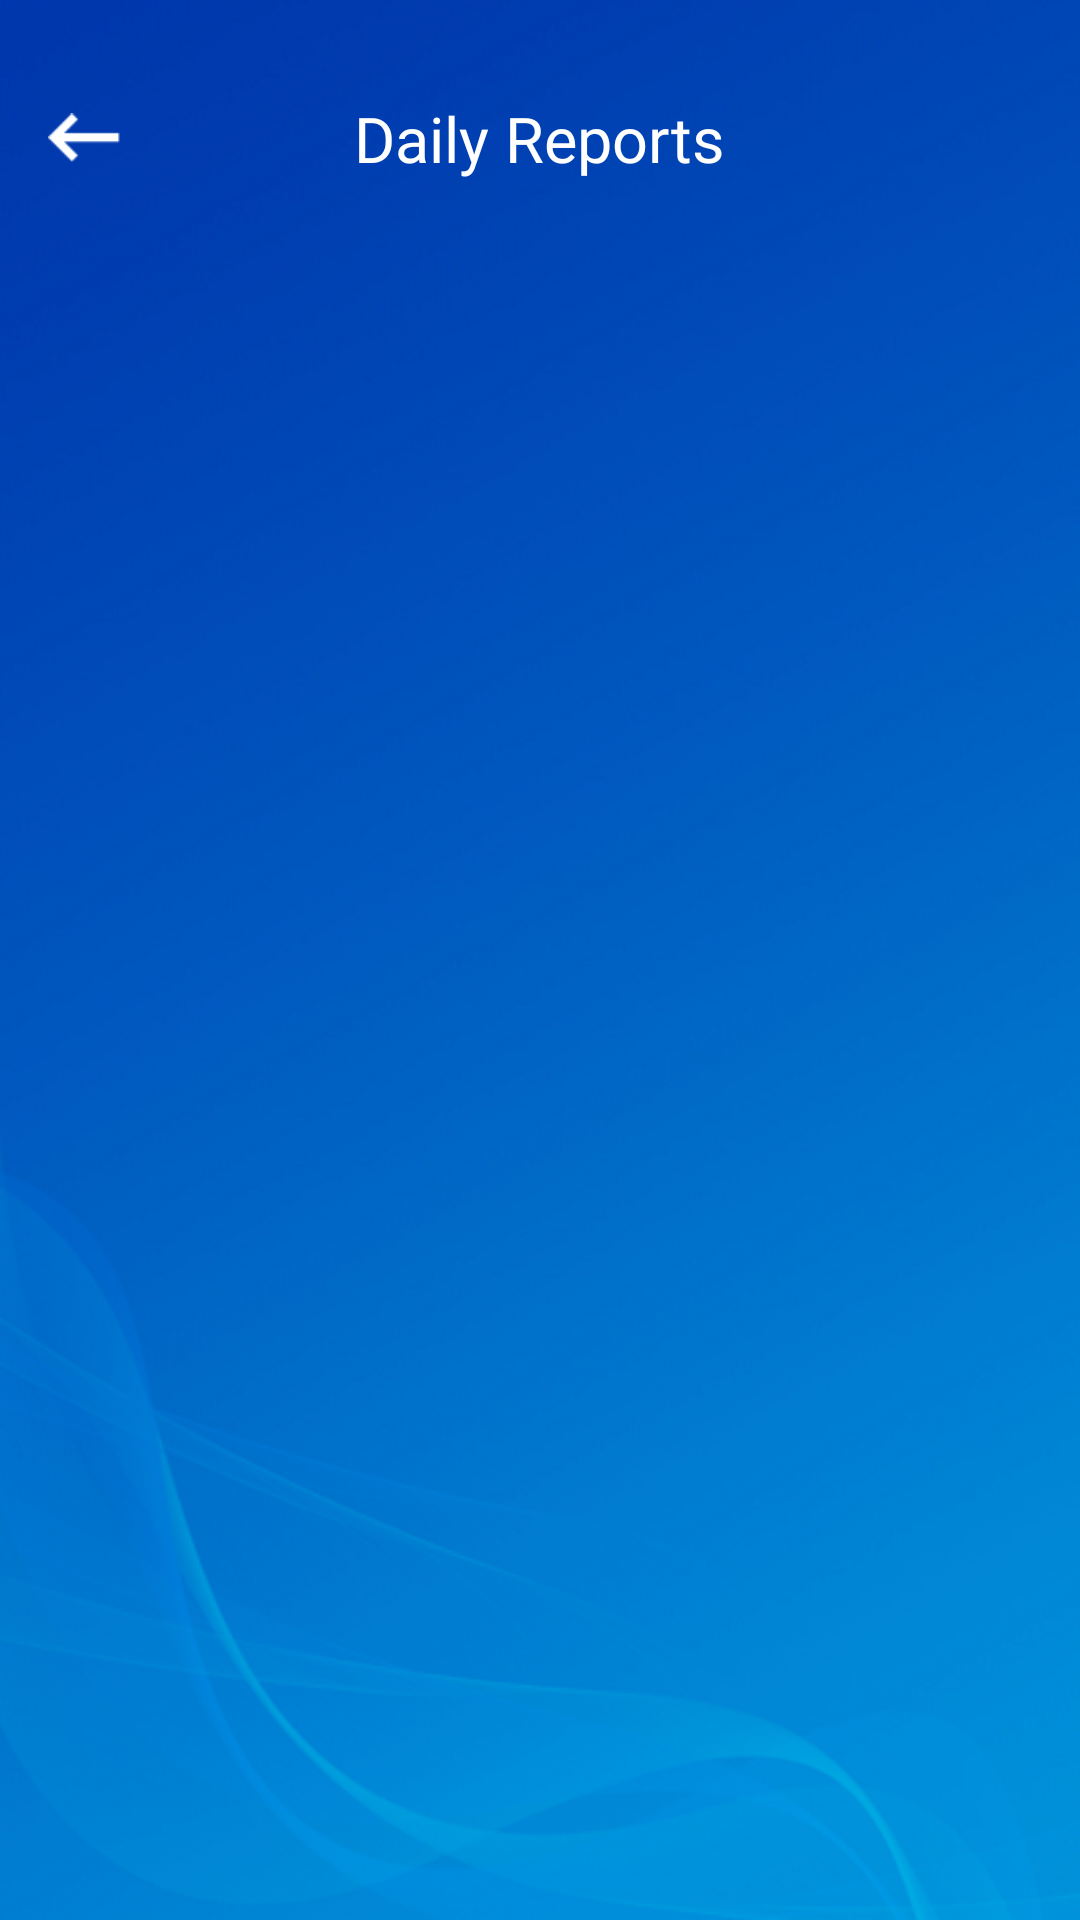

Named icons in this screenshot (1080px×1920px) and their centers, point (x, y):
backbtn: point (84, 137)
